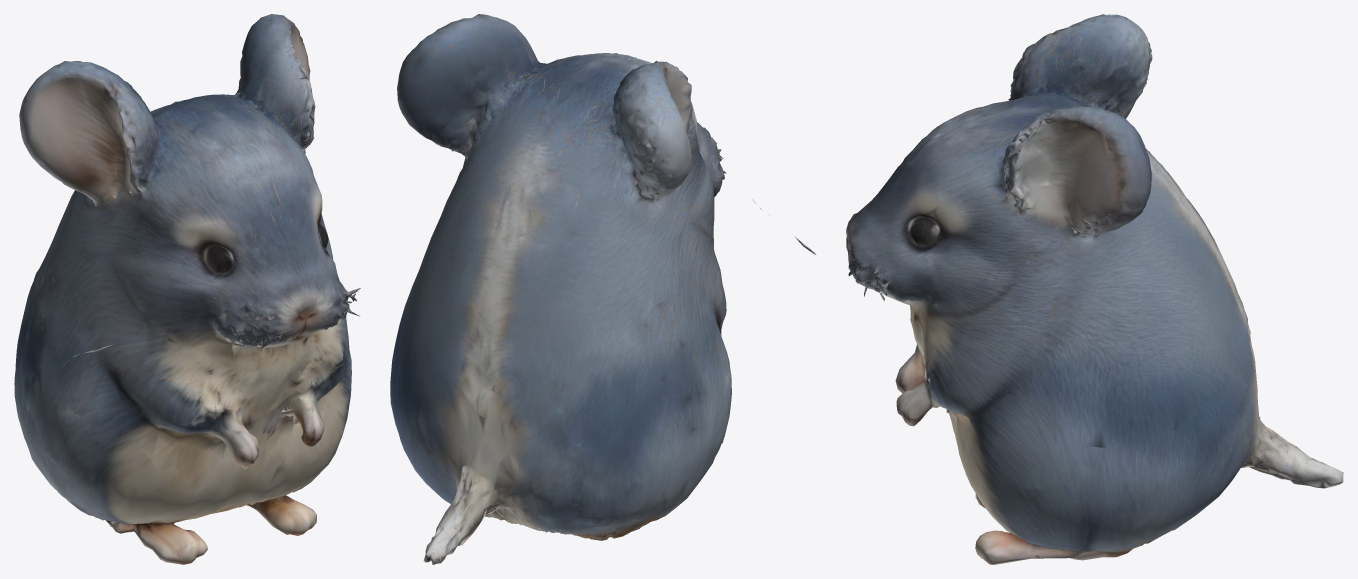
The model's file is chinchilla-gray_v1_backup.glb.
3 views of the same model, side by side, from view 1: azimuth 30°, elevation 25°; view 2: azimuth 150°, elevation 25°; view 3: azimuth 270°, elevation 25° (orthographic). The views are drawn at different scales.
Parts seen in each view (by area): view 1: Mesh1.0; view 2: Mesh1.0; view 3: Mesh1.0.
Part boxes in pixels (left/top/right/bottom): Mesh1.0: left=14, top=14, right=360, bottom=564; Mesh1.0: left=390, top=14, right=816, bottom=564; Mesh1.0: left=846, top=14, right=1343, bottom=564.
Bounding box in the file's own units: 1.35 × 1.85 × 1.79.
1 material, 1 textured.
